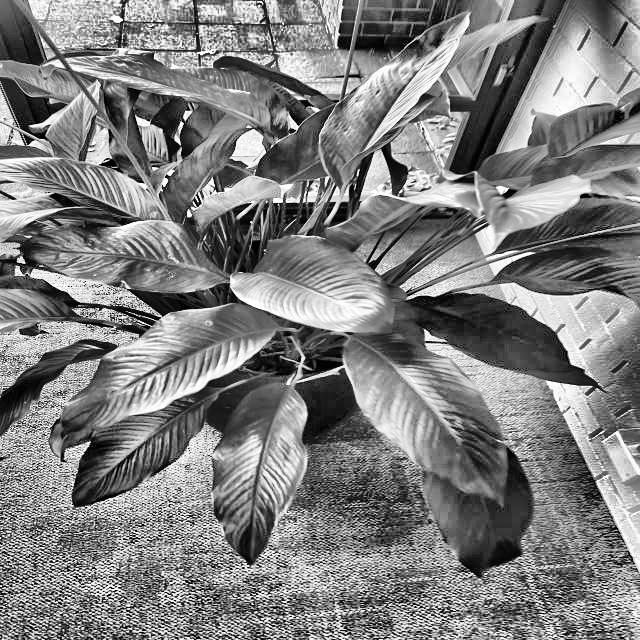plants: (78, 113, 548, 457)
